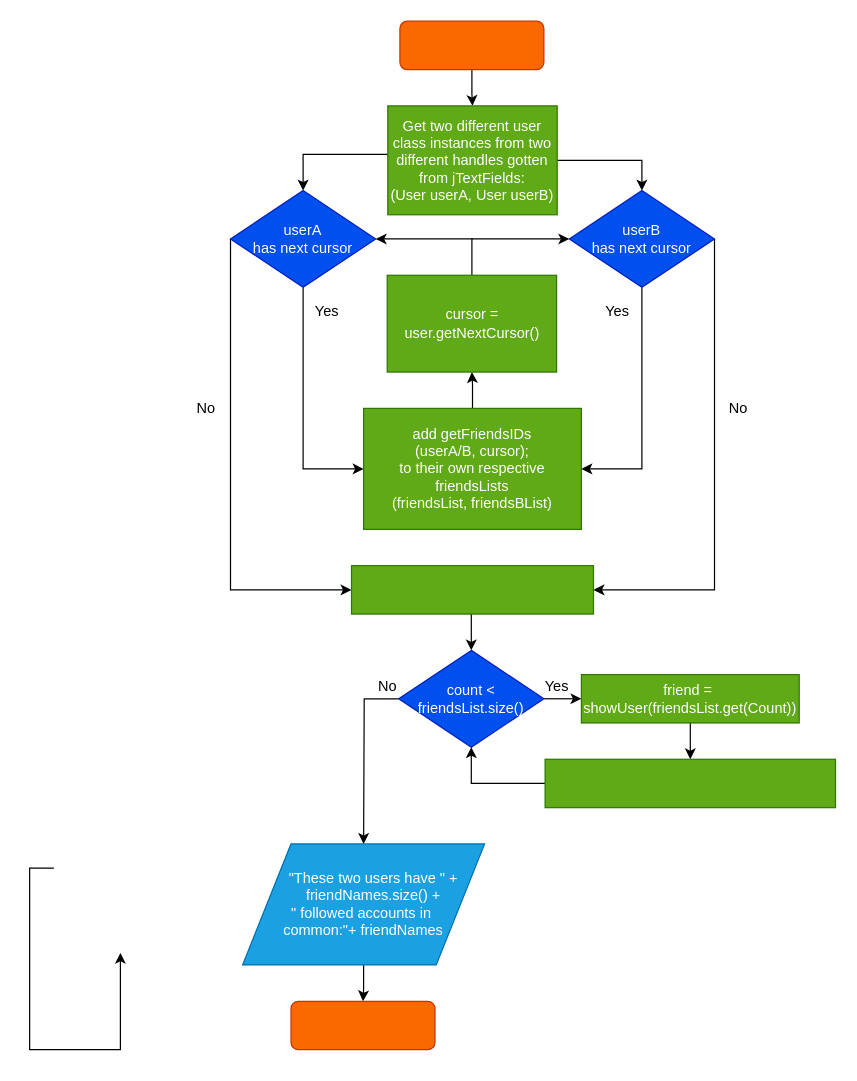
Some shapes in this 857 by 1081 pixel diagram are drawn without their labels. The centre of each missing label's shape, as x and y in pixels:
End: point 362,1025
friendNames.add("@" + friend.getScreenName): point 690,783
friendsList.retainAll(friendsBList): point 472,589
Start: point 471,45
